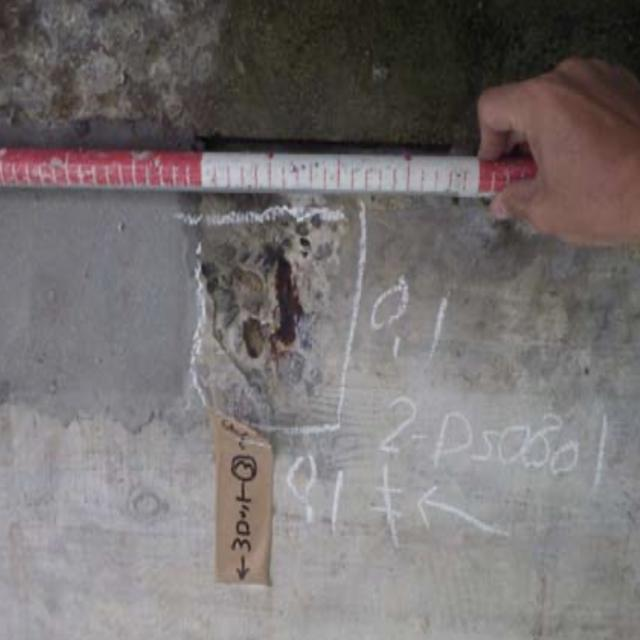spalling: (177, 187, 359, 412)
